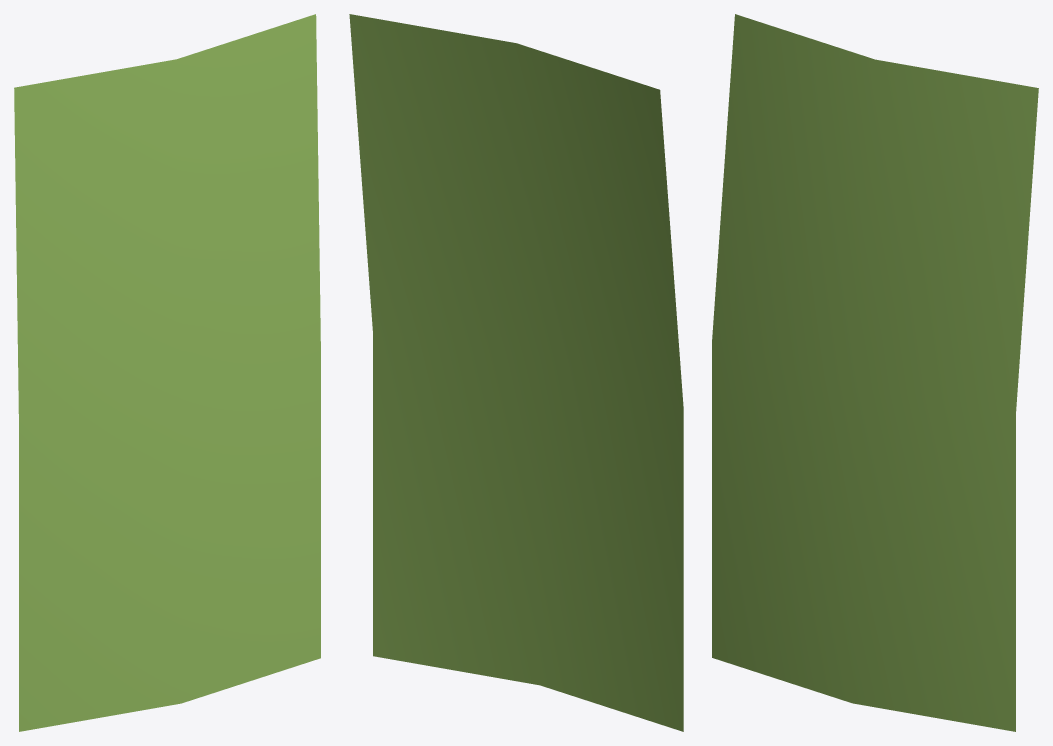
Rendered from GrassPlane_a_OneS_02.fbx.
3 renders of one model, left to right at view 1: azimuth 30°, elevation 25°; view 2: azimuth 150°, elevation 25°; view 3: azimuth 330°, elevation 25°, orthographic. The views are drawn at different scales.
Parts seen in each view (by area): view 1: GrassPlane_a_OneS_02; view 2: GrassPlane_a_OneS_02; view 3: GrassPlane_a_OneS_02.
Boxes of the visible parts, x1,y1,x2,y2 form: GrassPlane_a_OneS_02: (14,14,320,731); GrassPlane_a_OneS_02: (349,14,683,731); GrassPlane_a_OneS_02: (712,14,1038,731).
Size of the model in its own units: 35.66 by 69.25 by 5.02.
